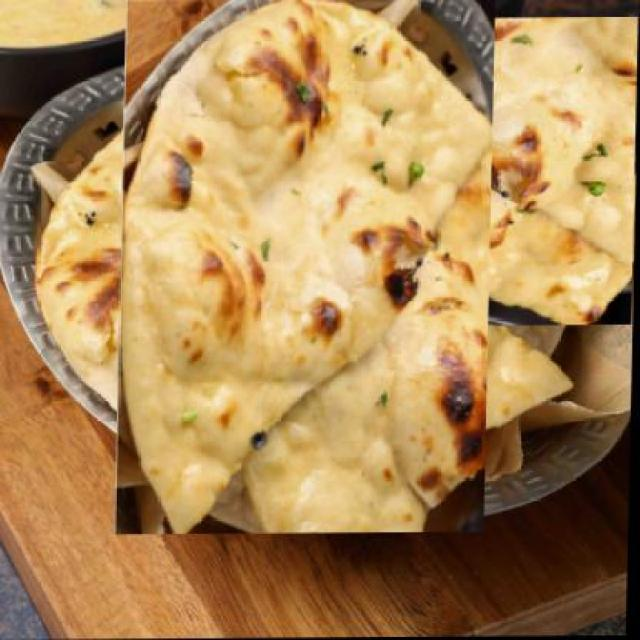chapati: (76, 38, 538, 496), (170, 17, 639, 331)
